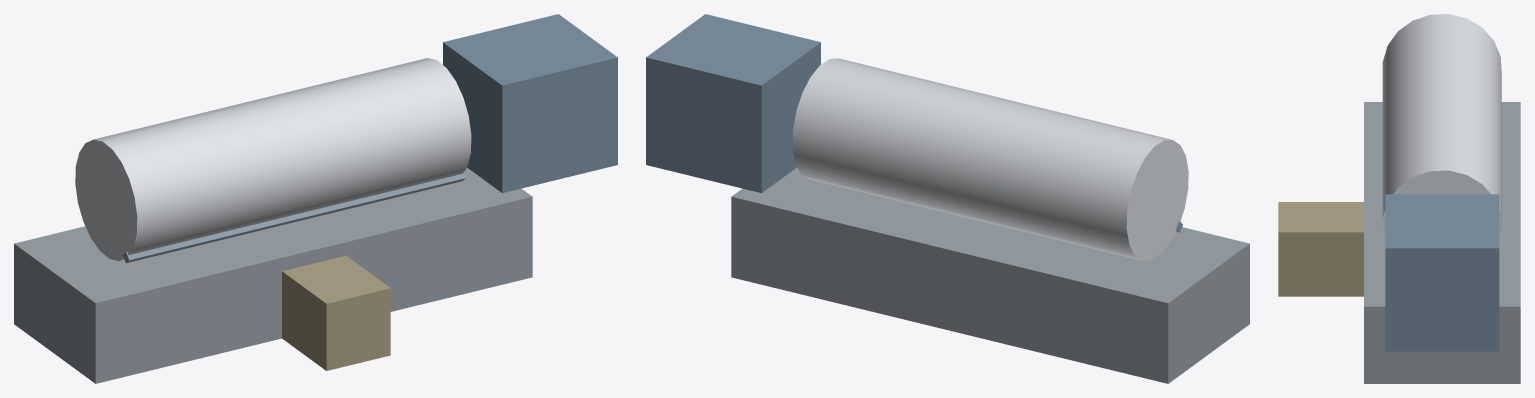
The model's file is centrifuge.glb.
The picture shows the model from 3 angles, left to right: view 1: azimuth 30°, elevation 25°; view 2: azimuth 150°, elevation 25°; view 3: azimuth 270°, elevation 25°; orthographic projection. The views are drawn at different scales.
Size of the model in its own units: 4.15 by 1.47 by 1.7.
